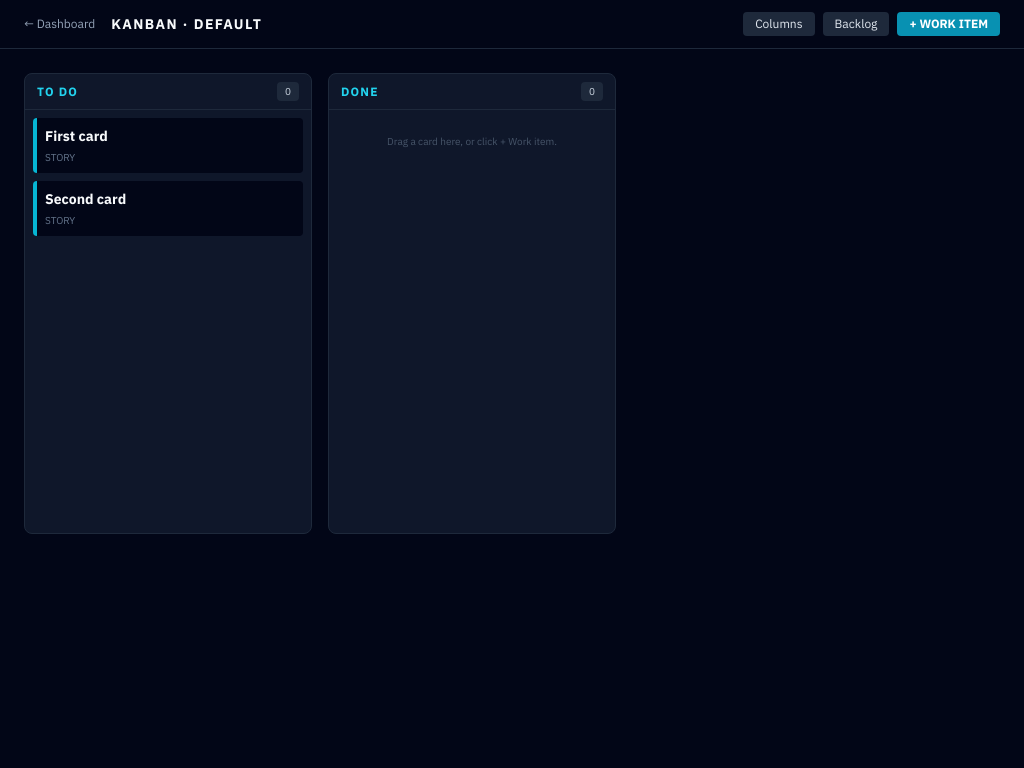
Test: KanbanBoard opening a card › opens the stored copy, not the one the board loaded
Click the text "First card": click(76, 136) [45, 127, 108, 145]
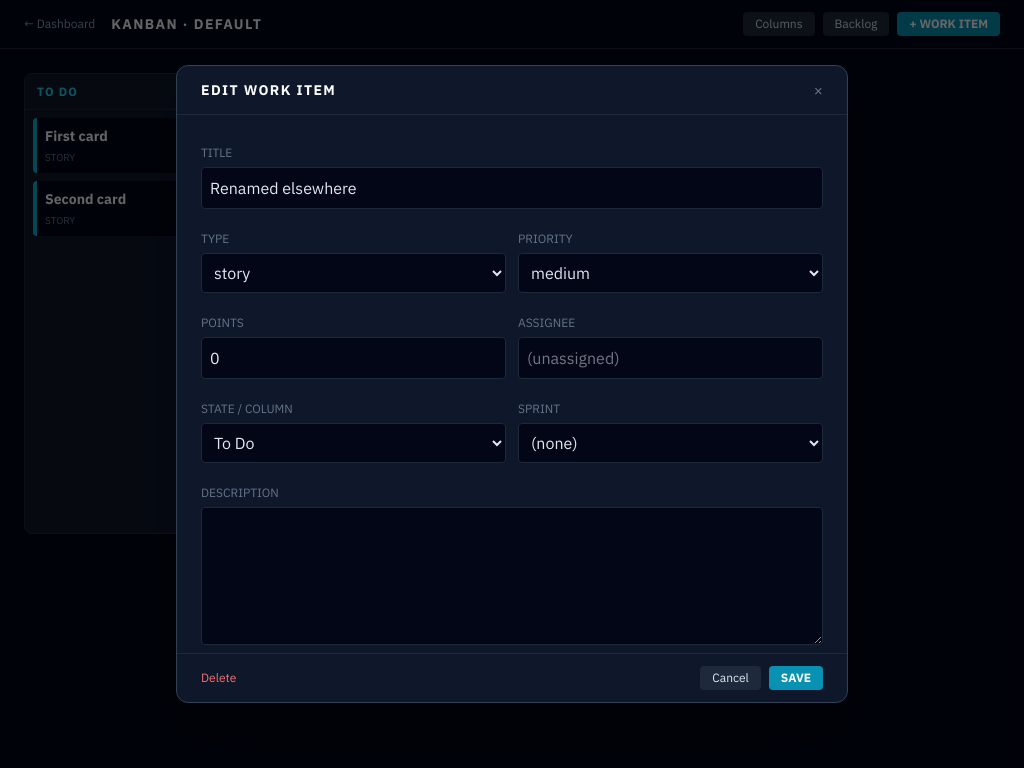
Expected: the field showing "Renamed elsewhere" is shown, [201, 167, 823, 209]
